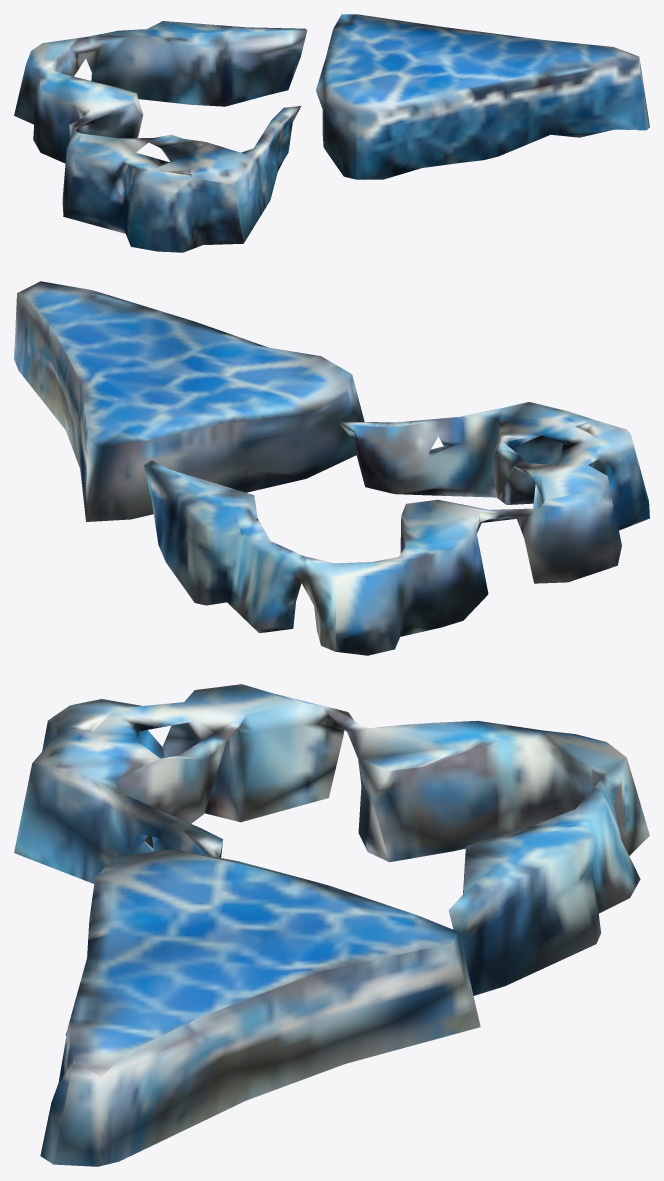
Rendered from BossRoom_CrystalRubble.fbx.
The picture shows the model from 3 angles, top to bottom: view 1: azimuth 30°, elevation 25°; view 2: azimuth 150°, elevation 25°; view 3: azimuth 270°, elevation 25°; orthographic projection. The views are drawn at different scales.
Visible parts, largest first — view 1: BossRoom_CrystalRubble_Mesh; view 2: BossRoom_CrystalRubble_Mesh; view 3: BossRoom_CrystalRubble_Mesh.
Part boxes in pixels (x1,y1,x2,y2): BossRoom_CrystalRubble_Mesh: (14, 14, 649, 252); BossRoom_CrystalRubble_Mesh: (14, 281, 649, 655); BossRoom_CrystalRubble_Mesh: (14, 684, 649, 1166).
Bounding box in the file's own units: 6 × 0.7976 × 3.94.
Materials: 1 (1 with a texture image).
